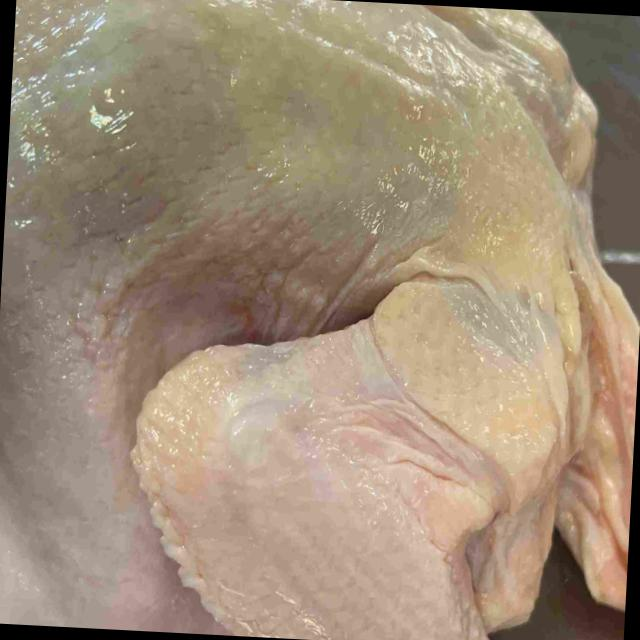back: (2, 0, 460, 301)
leg: (0, 298, 218, 635)
neck: (572, 244, 640, 614)
wing: (137, 277, 562, 640), (440, 6, 599, 161)
